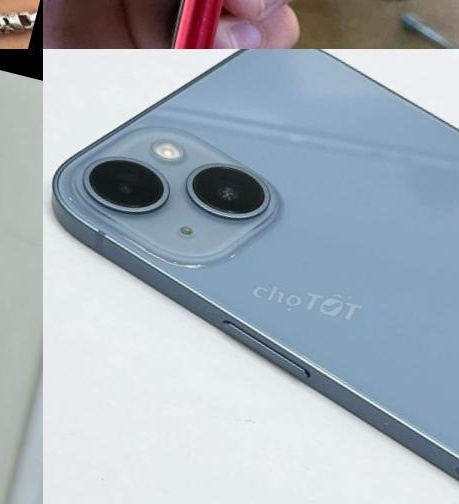scratch: (192, 0, 222, 26)
